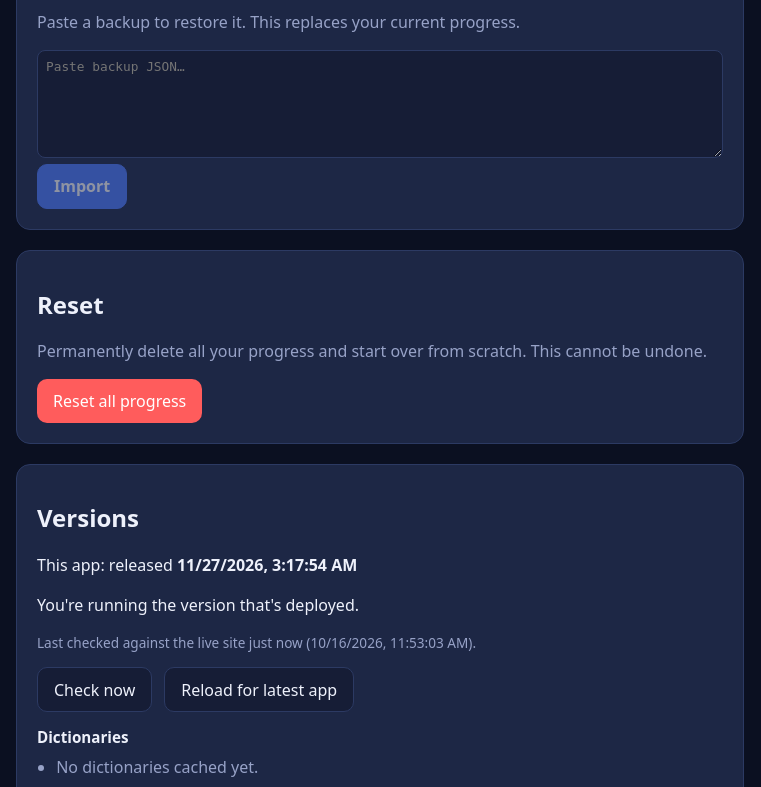
Test: DataView › cancel on reset confirm restores the initial button
(page scrolled)
Step 1. Click the button with class "reset-btn" → (120, 401), box [37,379,202,422]
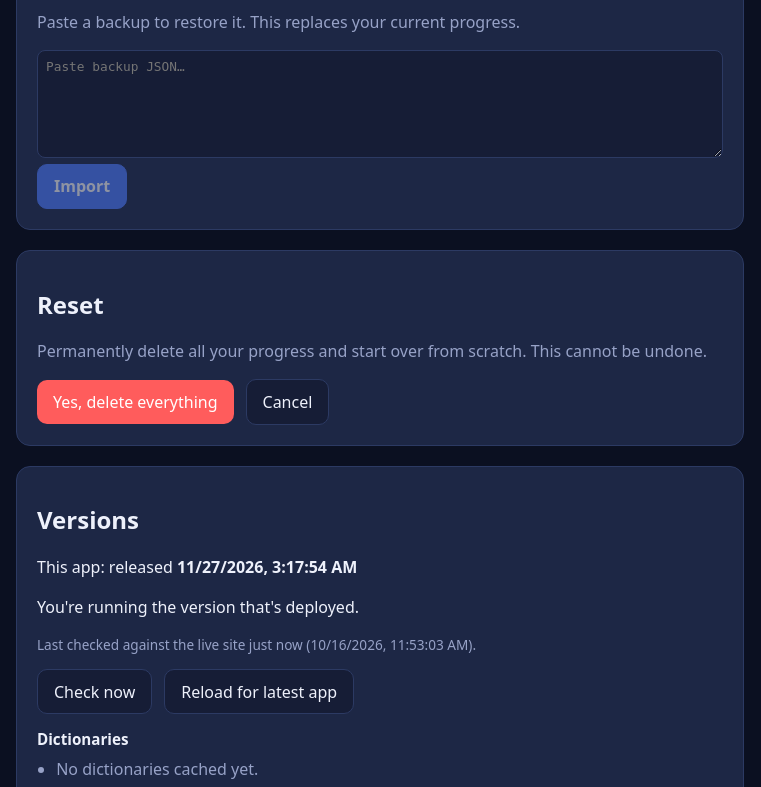
Step 2. Click the button with class "reset-cancel" → (287, 402), box [246,379,329,424]
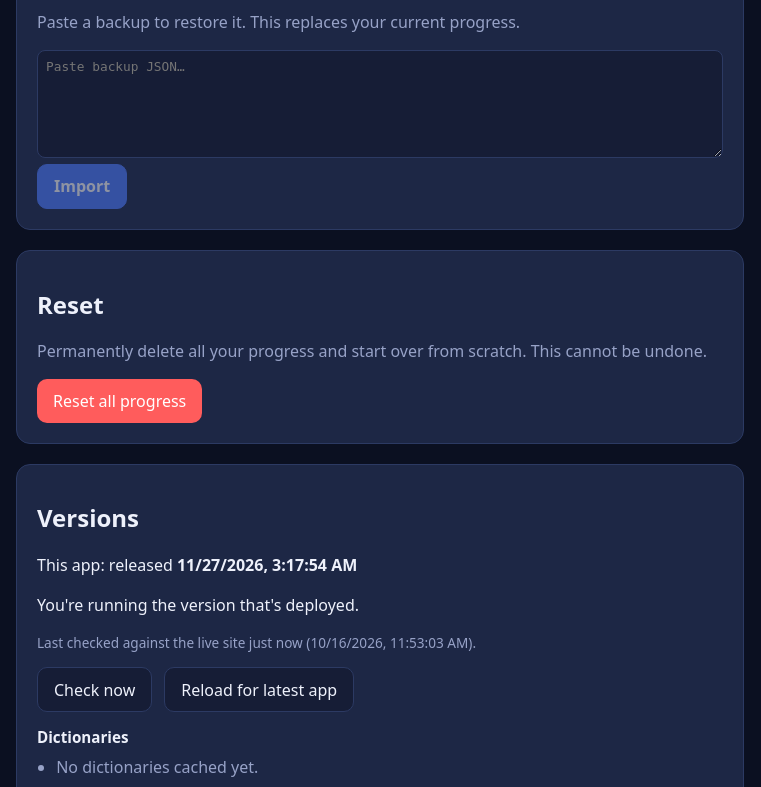
expect the button with class "reset-btn" is shown: met, box [37,379,202,422]
